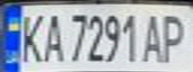1: (121, 9, 142, 63)
2: (84, 9, 106, 63)
7: (66, 9, 87, 63)
9: (103, 10, 124, 63)
A: (139, 9, 169, 63), (39, 10, 66, 63)
K: (15, 9, 45, 64)
P: (157, 10, 190, 63)
